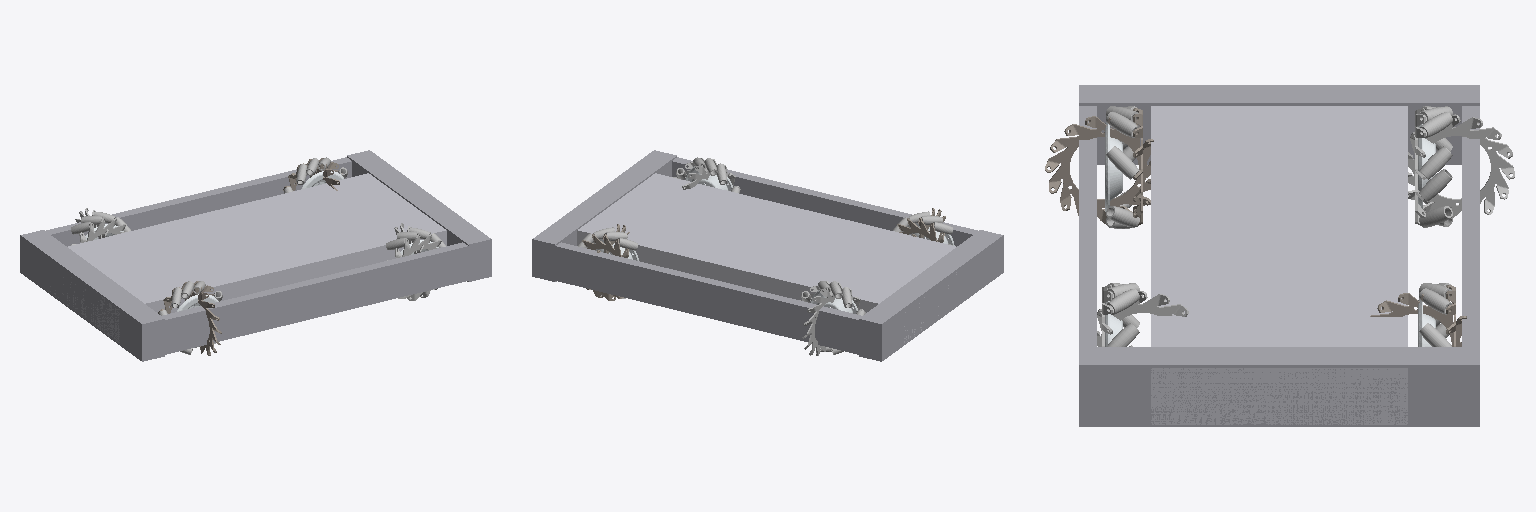
--- Facts derived from the render (not from the file) ---
3 views of the same robot in one strip: view 1: azimuth 30°, elevation 25°; view 2: azimuth 150°, elevation 25°; view 3: azimuth 270°, elevation 25° (orthographic).
Robot: linorobot2_mecanum — 80 links, 79 joints (64 continuous, 15 fixed); root link base_footprint; default pose: all joints at 0.
Links seen in each view (by area): view 1: base_link, right_channel, back_channel, left_channel, front_channel, rear_right_plate2, front_right_plate2; view 2: base_link, left_channel, back_channel, right_channel, front_channel, rear_left_plate1, front_left_plate1; view 3: base_link, front_channel, back_channel, right_channel, left_channel, rear_right_plate2, rear_left_plate1, front_left_plate2, front_right_plate1, rear_right_wheel, rear_left_plate2, rear_right_plate1 (+2 smaller).
Boxes of the visible links, x1,y1,x2,y2 form: base_link: (50, 173, 446, 342); right_channel: (137, 241, 491, 359); back_channel: (20, 230, 164, 361); left_channel: (20, 157, 351, 269); front_channel: (347, 150, 491, 281); rear_right_plate2: (185, 287, 221, 355); front_right_plate2: (395, 234, 441, 300); base_link: (577, 173, 956, 342); left_channel: (532, 242, 885, 359); back_channel: (859, 230, 1003, 361); right_channel: (672, 157, 1003, 270); front_channel: (532, 150, 676, 281); rear_left_plate1: (802, 288, 834, 355); front_left_plate1: (582, 234, 628, 300); base_link: (1151, 106, 1407, 424); front_channel: (1079, 347, 1479, 426); back_channel: (1079, 85, 1479, 164); right_channel: (1079, 106, 1096, 424); left_channel: (1462, 106, 1479, 424); rear_right_plate2: (1045, 116, 1153, 224); rear_left_plate1: (1408, 114, 1514, 222); front_left_plate2: (1370, 293, 1466, 346); front_right_plate1: (1097, 291, 1188, 346); rear_right_wheel: (1105, 122, 1122, 211); rear_left_plate2: (1415, 108, 1425, 225); rear_right_plate1: (1133, 108, 1142, 225).
Size in the robot's own frame: 0.8207 by 0.5825 by 0.1517 metres.
50 mesh visuals loaded from 37 distinct referenced files (14 binary STL); not drawn: 24 (reference not matched to a file when rendering).

robot.urdf — linorobot2_mecanum:
<?xml version="1.0" ?>
<!-- =================================================================================== -->
<!-- |    This document was autogenerated by xacro from mecanum.urdf.xacro             | -->
<!-- |    EDITING THIS FILE BY HAND IS NOT RECOMMENDED                                 | -->
<!-- =================================================================================== -->
<robot name="linorobot2_mecanum">
  <link name="base_footprint"/>
  <link name="base_link">
    <visual>
      <origin rpy="0 0 0" xyz="0 0 0"/>
      <geometry>
        <box size="0.82067 0.3175 0.07772"/>
        <!-- <mesh filename="" scale="0.001 0.001 0.001"/> -->
      </geometry>
      <material name="gray_base">
        <color rgba="0.8 0.8 0.83 1.0"/>
      </material>
    </visual>
    <collision>
      <origin rpy="0 0 0" xyz="0 0 0"/>
      <geometry>
        <box size="0.82067 0.3175 0.07772"/>
      </geometry>
    </collision>
    <inertial>
      <origin rpy="0 0 0" xyz="0 0 0"/>
      <mass value="30"/>
    </inertial>
  </link>
  <gazebo reference="base_link">
    <visual>
      <material>
        <ambient>0.8392 0.6314 0.0 1.0</ambient>
        <diffuse>0.8392 0.6314 0.0 1.0</diffuse>
        <specular>0.99 0.99 0.99 1.0</specular>
        <emissive>0.0 0.0 0.0 0.0</emissive>
      </material>
    </visual>
  </gazebo>
  <joint name="base_to_footprint" type="fixed">
    <parent link="base_footprint"/>
    <child link="base_link"/>
    <origin rpy="0 0 0" xyz="0 0 0.06972"/>
  </joint>
  <link name="front_channel">
    <visual>
      <geometry>
        <box size="0.05398 0.4953 0.08458"/>
        <!-- Box dimensions (x, y, z) -->
      </geometry>
      <material name="gray">
        <color rgba="0.70 0.70 0.73 1.0"/>
        <!-- Blue color -->
      </material>
    </visual>
    <collision>
      <geometry>
        <box size="0.05398 0.4953 0.08458"/>
        <!-- Box dimensions (x, y, z) -->
      </geometry>
    </collision>
    <inertial>
      <mass value="5"/>
    </inertial>
  </link>
  <joint name="base_link_to_front_channel" type="fixed">
    <parent link="base_link"/>
    <child link="front_channel"/>
    <origin rpy="0 0 0" xyz="0.383345 0 0"/>
  </joint>
  <link name="back_channel">
    <visual>
      <geometry>
        <box size="0.05398 0.4953 0.08458"/>
        <!-- Box dimensions (x, y, z) -->
      </geometry>
      <material name="gray">
        <color rgba="0.70 0.70 0.73 1.0"/>
        <!-- Blue color -->
      </material>
    </visual>
    <collision>
      <geometry>
        <box size="0.05398 0.4953 0.08458"/>
        <!-- Box dimensions (x, y, z) -->
      </geometry>
    </collision>
    <inertial>
      <mass value="5"/>
    </inertial>
  </link>
  <joint name="base_link_to_back_channel" type="fixed">
    <parent link="base_link"/>
    <child link="back_channel"/>
    <origin rpy="0 0 0" xyz="-0.383345 0 0"/>
  </joint>
  <link name="left_channel">
    <visual>
      <geometry>
        <box size="0.82067 0.02224 0.07772"/>
      </geometry>
      <material name="gray">
        <color rgba="0.70 0.70 0.73 1.0"/>
      </material>
    </visual>
    <collision>
      <geometry>
        <box size="0.82067 0.02224 0.07772"/>
      </geometry>
    </collision>
    <inertial>
      <mass value="5"/>
    </inertial>
  </link>
  <joint name="base_link_to_left_channel" type="fixed">
    <parent link="base_link"/>
    <child link="left_channel"/>
    <origin rpy="0 0 0" xyz="0 0.23653 0"/>
  </joint>
  <link name="right_channel">
    <visual>
      <geometry>
        <box size="0.82067 0.02224 0.07772"/>
      </geometry>
      <material name="gray">
        <color rgba="0.70 0.70 0.73 1.0"/>
      </material>
    </visual>
    <collision>
      <geometry>
        <box size="0.82067 0.02224 0.07772"/>
      </geometry>
    </collision>
    <inertial>
      <mass value="5"/>
    </inertial>
  </link>
  <joint name="base_link_to_right_channel" type="fixed">
    <parent link="base_link"/>
    <child link="right_channel"/>
    <origin rpy="0 0 0" xyz="0 -0.23653 0"/>
  </joint>
  <link name="front_left_wheel">
    <inertial>
      <origin rpy="0 0 0" xyz="-3.9077136779291E-16 -0.0136205707454137 -1.44489682185117E-14"/>
      <mass value="0.25"/>
    </inertial>
    <visual>
      <origin rpy="0 0 0" xyz="0 0 0"/>
      <geometry>
        <mesh filename="package://linorobot2_description/mecanum_wheel_left/meshes/base_link.STL"/>
      </geometry>
      <material name="">
        <color rgba="0.898039215686275 0.917647058823529 0.929411764705882 1"/>
      </material>
    </visual>
    <collision>
      <origin rpy="0 0 0" xyz="0 0 0"/>
      <geometry>
        <mesh filename="package://linorobot2_description/mecanum_wheel_left/meshes/base_link.STL"/>
      </geometry>
    </collision>
  </link>
  <joint name="base_link_to_front_left_wheel" type="continuous">
    <origin rpy="0 0 0" xyz="0.25857 0.19355 0"/>
    <parent link="base_link"/>
    <child link="front_left_wheel"/>
    <axis xyz="0 1 0"/>
    <dynamics damping="0.1" friction="0.01"/>
  </joint>
  <link name="front_left_plate1">
    <inertial>
      <mass value="0.5"/>
    </inertial>
    <visual>
      <origin rpy="0 0 0" xyz="0 0 0"/>
      <geometry>
        <mesh filename="package://linorobot2_description/mecanum_wheel_left/meshes/plate1.STL"/>
      </geometry>
      <material name="">
        <color rgba="0.650980392156863 0.619607843137255 0.588235294117647 1"/>
      </material>
    </visual>
    <collision>
      <origin rpy="0 0 0" xyz="0 0 0"/>
      <geometry>
        <mesh filename="package://linorobot2_description/mecanum_wheel_left/meshes/plate1.STL"/>
      </geometry>
    </collision>
  </link>
  <joint name="front_left_wheel_to_front_left_plate1" type="fixed">
    <origin rpy="-1.5708 0.03287 0" xyz="0 0.023114 0"/>
    <parent link="front_left_wheel"/>
    <child link="front_left_plate1"/>
    <axis xyz="0 0 0"/>
  </joint>
  <link name="front_left_plate2">
    <inertial>
      <mass value="0.5"/>
    </inertial>
    <visual>
      <origin rpy="0 0 0" xyz="0 0 0"/>
      <geometry>
        <mesh filename="package://linorobot2_description/mecanum_wheel_left/meshes/plate2.STL"/>
      </geometry>
      <material name="">
        <color rgba="0.650980392156863 0.619607843137255 0.588235294117647 1"/>
      </material>
    </visual>
    <collision>
      <origin rpy="0 0 0" xyz="0 0 0"/>
      <geometry>
        <mesh filename="package://linorobot2_description/mecanum_wheel_left/meshes/plate2.STL"/>
      </geometry>
    </collision>
  </link>
  <joint name="front_left_wheel_to_front_left_plate2" type="fixed">
    <origin rpy="-1.5707963267949 0.0335546833724646 -3.14159265358979" xyz="0 -0.023114 0"/>
    <parent link="front_left_wheel"/>
    <child link="front_left_plate2"/>
    <axis xyz="0 0 0"/>
  </joint>
  <link name="front_left_roller1">
    <inertial>
      <origin rpy="0 0 0" xyz="5.96744875736022E-16 -1.24475083018716E-14 -0.0215899999999933"/>
      <mass value="0.025"/>
    </inertial>
    <visual>
      <origin rpy="0 0 0" xyz="0 0 0"/>
      <geometry>
        <mesh filename="package://linorobot2_description/mecanum_wheel_left/meshes/roller1.STL"/>
      </geometry>
      <material name="">
        <color rgba="0.752941176470588 0.752941176470588 0.752941176470588 1"/>
      </material>
    </visual>
    <collision>
      <origin rpy="0 0 0" xyz="0 0 0"/>
      <geometry>
        <mesh filename="package://linorobot2_description/mecanum_wheel_left/meshes/roller1.STL"/>
      </geometry>
    </collision>
  </link>
  <joint name="front_left_wheel_to_front_left_roller1" type="continuous">
    <origin rpy="2.3375 0.48899 -0.038445" xyz="-0.064997 -0.01515 0.019737"/>
    <parent link="front_left_wheel"/>
    <child link="front_left_roller1"/>
    <axis xyz="0 0 1"/>
    <dynamics damping="0.1" friction="0.01"/>
  </joint>
  <link name="front_left_roller2">
    <inertial>
      <origin rpy="0 0 0" xyz="5.82867087928207E-16 -9.95687907123788E-15 -0.0215899999999933"/>
      <mass value="0.025"/>
    </inertial>
    <visual>
      <origin rpy="0 0 0" xyz="0 0 0"/>
      <geometry>
        <mesh filename="package://linorobot2_description/mecanum_wheel_left/meshes/roller2.STL"/>
      </geometry>
      <material name="">
        <color rgba="0.752941176470588 0.752941176470588 0.752941176470588 1"/>
      </material>
    </visual>
    <collision>
      <origin rpy="0 0 0" xyz="0 0 0"/>
      <geometry>
        <mesh filename="package://linorobot2_description/mecanum_wheel_left/meshes/roller2.STL"/>
      </geometry>
    </collision>
  </link>
  <joint name="front_left_wheel_to_front_left_roller2" type="continuous">
    <origin rpy="2.3122 0.90744 -0.055132" xyz="-0.05135 -0.01515 0.044467"/>
    <parent link="front_left_wheel"/>
    <child link="front_left_roller2"/>
    <axis xyz="0 0 1"/>
    <dynamics damping="0.1" friction="0.01"/>
  </joint>
  <link name="front_left_roller3">
    <inertial>
      <origin rpy="0 0 0" xyz="5.82867087928207E-16 -3.41003267290141E-15 -0.0215899999999933"/>
      <mass value="0.025"/>
    </inertial>
    <visual>
      <origin rpy="0 0 0" xyz="0 0 0"/>
      <geometry>
        <mesh filename="package://linorobot2_description/mecanum_wheel_left/meshes/roller3.STL"/>
      </geometry>
      <material name="">
        <color rgba="0.752941176470588 0.752941176470588 0.752941176470588 1"/>
      </material>
    </visual>
    <collision>
      <origin rpy="0 0 0" xyz="0 0 0"/>
      <geometry>
        <mesh filename="package://linorobot2_description/mecanum_wheel_left/meshes/roller3.STL"/>
      </geometry>
    </collision>
  </link>
  <joint name="front_left_wheel_to_front_left_roller3" type="continuous">
    <origin rpy="2.22 1.3248 -0.13976" xyz="-0.028824 -0.01515 0.061508"/>
    <parent link="front_left_wheel"/>
    <child link="front_left_roller3"/>
    <axis xyz="0 0 1"/>
    <dynamics damping="0.1" friction="0.01"/>
  </joint>
  <link name="front_left_roller4">
    <inertial>
      <origin rpy="0 0 0" xyz="5.68989300120393E-16 -3.35365415993216E-15 -0.0215899999999933"/>
      <mass value="0.025"/>
    </inertial>
    <visual>
      <origin rpy="0 0 0" xyz="0 0 0"/>
      <geometry>
        <mesh filename="package://linorobot2_description/mecanum_wheel_left/meshes/roller4.STL"/>
      </geometry>
      <material name="">
        <color rgba="0.752941176470588 0.752941176470588 0.752941176470588 1"/>
      </material>
    </visual>
    <collision>
      <origin rpy="0 0 0" xyz="0 0 0"/>
      <geometry>
        <mesh filename="package://linorobot2_description/mecanum_wheel_left/meshes/roller4.STL"/>
      </geometry>
    </collision>
  </link>
  <joint name="front_left_wheel_to_front_left_roller4" type="continuous">
    <origin rpy="-0.59653 1.3924 -2.9492" xyz="-0.0013143 -0.01515 0.067914"/>
    <parent link="front_left_wheel"/>
    <child link="front_left_roller4"/>
    <axis xyz="0 0 1"/>
    <dynamics damping="0.1" friction="0.01"/>
  </joint>
  <link name="front_left_roller5">
    <inertial>
      <origin rpy="0 0 0" xyz="5.96744875736022E-16 2.4459601011273E-15 -0.0215899999999933"/>
      <mass value="0.025"/>
    </inertial>
    <visual>
      <origin rpy="0 0 0" xyz="0 0 0"/>
      <geometry>
        <mesh filename="package://linorobot2_description/mecanum_wheel_left/meshes/roller5.STL"/>
      </geometry>
      <material name="">
        <color rgba="0.752941176470588 0.752941176470588 0.752941176470588 1"/>
      </material>
    </visual>
    <collision>
      <origin rpy="0 0 0" xyz="0 0 0"/>
      <geometry>
        <mesh filename="package://linorobot2_description/mecanum_wheel_left/meshes/roller5.STL"/>
      </geometry>
    </collision>
  </link>
  <joint name="front_left_wheel_to_front_left_roller5" type="continuous">
    <origin rpy="-0.73578 0.97593 -3.081" xyz="0.026423 -0.01515 0.062578"/>
    <parent link="front_left_wheel"/>
    <child link="front_left_roller5"/>
    <axis xyz="0 0 1"/>
    <dynamics damping="0.1" friction="0.01"/>
  </joint>
  <link name="front_left_roller6">
    <inertial>
      <origin rpy="0 0 0" xyz="5.82867087928207E-16 -7.52392939618041E-15 -0.0215899999999933"/>
      <mass value="0.025"/>
    </inertial>
    <visual>
      <origin rpy="0 0 0" xyz="0 0 0"/>
      <geometry>
        <mesh filename="package://linorobot2_description/mecanum_wheel_left/meshes/roller6.STL"/>
      </geometry>
      <material name="">
        <color rgba="0.752941176470588 0.752941176470588 0.752941176470588 1"/>
      </material>
    </visual>
    <collision>
      <origin rpy="0 0 0" xyz="0 0 0"/>
      <geometry>
        <mesh filename="package://linorobot2_description/mecanum_wheel_left/meshes/roller6.STL"/>
      </geometry>
    </collision>
  </link>
  <joint name="front_left_wheel_to_front_left_roller6" type="continuous">
    <origin rpy="-0.76481 0.55754 -3.1016" xyz="0.049591 -0.01515 0.04642"/>
    <parent link="front_left_wheel"/>
    <child link="front_left_roller6"/>
    <axis xyz="0 0 1"/>
    <dynamics damping="0.1" friction="0.01"/>
  </joint>
  <link name="front_left_roller7">
    <inertial>
      <origin rpy="0 0 0" xyz="5.82867087928207E-16 -3.4109000346394E-15 -0.0215899999999933"/>
      <mass value="0.025"/>
    </inertial>
    <visual>
      <origin rpy="0 0 0" xyz="0 0 0"/>
      <geometry>
        <mesh filename="package://linorobot2_description/mecanum_wheel_left/meshes/roller7.STL"/>
      </geometry>
      <material name="">
        <color rgba="0.752941176470588 0.752941176470588 0.752941176470588 1"/>
      </material>
    </visual>
    <collision>
      <origin rpy="0 0 0" xyz="0 0 0"/>
      <geometry>
        <mesh filename="package://linorobot2_description/mecanum_wheel_left/meshes/roller7.STL"/>
      </geometry>
    </collision>
  </link>
  <joint name="front_left_wheel_to_front_left_roller7" type="continuous">
    <origin rpy="-0.78123 0.13894 -3.1073" xyz="0.064184 -0.01515 0.022237"/>
    <parent link="front_left_wheel"/>
    <child link="front_left_roller7"/>
    <axis xyz="0 0 1"/>
    <dynamics damping="0.1" friction="0.01"/>
  </joint>
  <link name="front_left_roller8">
    <inertial>
      <origin rpy="0 0 0" xyz="5.82867087928207E-16 -1.76421377506841E-15 -0.0215899999999933"/>
      <mass value="0.025"/>
    </inertial>
    <visual>
      <origin rpy="0 0 0" xyz="0 0 0"/>
      <geometry>
        <mesh filename="package://linorobot2_description/mecanum_wheel_left/meshes/roller8.STL"/>
      </geometry>
      <material name="">
        <color rgba="0.752941176470588 0.752941176470588 0.752941176470588 1"/>
      </material>
    </visual>
    <collision>
      <origin rpy="0 0 0" xyz="0 0 0"/>
      <geometry>
        <mesh filename="package://linorobot2_description/mecanum_wheel_left/meshes/roller8.STL"/>
      </geometry>
    </collision>
  </link>
  <joint name="front_left_wheel_to_front_left_roller8" type="continuous">
    <origin rpy="-0.79573 -0.27969 -3.1063" xyz="0.06768 -0.01515 -0.0057919"/>
    <parent link="front_left_wheel"/>
    <child link="front_left_roller8"/>
    <axis xyz="0 0 1"/>
    <dynamics damping="0.1" friction="0.01"/>
  </joint>
  <link name="front_left_roller9">
    <inertial>
      <origin rpy="0 0 0" xyz="5.82867087928207E-16 -5.1013880619788E-15 -0.0215899999999933"/>
      <mass value="0.025"/>
    </inertial>
    <visual>
      <origin rpy="0 0 0" xyz="0 0 0"/>
      <geometry>
        <mesh filename="package://linorobot2_description/mecanum_wheel_left/meshes/roller9.STL"/>
      </geometry>
      <material name="">
        <color rgba="0.752941176470588 0.752941176470588 0.752941176470588 1"/>
      </material>
    </visual>
    <collision>
      <origin rpy="0 0 0" xyz="0 0 0"/>
      <geometry>
        <mesh filename="package://linorobot2_description/mecanum_wheel_left/meshes/roller9.STL"/>
      </geometry>
    </collision>
  </link>
  <joint name="front_left_wheel_to_front_left_roller9" type="continuous">
    <origin rpy="-0.81448 -0.69826 -3.0973" xyz="0.059473 -0.01515 -0.032819"/>
    <parent link="front_left_wheel"/>
    <child link="front_left_roller9"/>
    <axis xyz="0 0 1"/>
    <dynamics damping="0.1" friction="0.01"/>
  </joint>
  <link name="front_left_roller10">
    <inertial>
      <origin rpy="0 0 0" xyz="5.96744875736022E-16 -6.51952450358984E-15 -0.0215899999999933"/>
      <mass value="0.025"/>
    </inertial>
    <visual>
      <origin rpy="0 0 0" xyz="0 0 0"/>
      <geometry>
        <mesh filename="package://linorobot2_description/mecanum_wheel_left/meshes/roller10.STL"/>
      </geometry>
      <material name="">
        <color rgba="0.752941176470588 0.752941176470588 0.752941176470588 1"/>
      </material>
    </visual>
    <collision>
      <origin rpy="0 0 0" xyz="0 0 0"/>
      <geometry>
        <mesh filename="package://linorobot2_description/mecanum_wheel_left/meshes/roller10.STL"/>
      </geometry>
    </collision>
  </link>
  <joint name="front_left_wheel_to_front_left_roller10" type="continuous">
    <origin rpy="-0.85554 -1.1164 -3.0642" xyz="0.040982 -0.01515 -0.054171"/>
    <parent link="front_left_wheel"/>
    <child link="front_left_roller10"/>
    <axis xyz="0 0 1"/>
    <dynamics damping="0.1" friction="0.01"/>
  </joint>
  <link name="front_left_roller11">
    <inertial>
      <origin rpy="0 0 0" xyz="5.68989300120393E-16 -3.40699690681845E-15 -0.0215899999999933"/>
      <mass value="0.025"/>
    </inertial>
    <visual>
      <origin rpy="0 0 0" xyz="0 0 0"/>
      <geometry>
        <mesh filename="package://linorobot2_description/mecanum_wheel_left/meshes/roller11.STL"/>
      </geometry>
      <material name="">
        <color rgba="0.752941176470588 0.752941176470588 0.752941176470588 1"/>
      </material>
    </visual>
    <collision>
      <origin rpy="0 0 0" xyz="0 0 0"/>
      <geometry>
        <mesh filename="package://linorobot2_description/mecanum_wheel_left/meshes/roller11.STL"/>
      </geometry>
    </collision>
  </link>
  <joint name="front_left_wheel_to_front_left_roller11" type="continuous">
    <origin rpy="-1.5658 -1.5225 -2.3612" xyz="0.015406 -0.01515 -0.066157"/>
    <parent link="front_left_wheel"/>
    <child link="front_left_roller11"/>
    <axis xyz="0 0 1"/>
    <dynamics damping="0.1" friction="0.01"/>
  </joint>
  <link name="front_left_roller12">
    <inertial>
      <origin rpy="0 0 0" xyz="5.96744875736022E-16 -9.87751547221194E-15 -0.0215899999999933"/>
      <mass value="0.025"/>
    </inertial>
    <visual>
      <origin rpy="0 0 0" xyz="0 0 0"/>
      <geometry>
        <mesh filename="package://linorobot2_description/mecanum_wheel_left/meshes/roller12.STL"/>
      </geometry>
      <material name="">
        <color rgba="0.752941176470588 0.752941176470588 0.752941176470588 1"/>
      </material>
    </visual>
    <collision>
      <origin rpy="0 0 0" xyz="0 0 0"/>
      <geometry>
        <mesh filename="package://linorobot2_description/mecanum_wheel_left/meshes/roller12.STL"/>
      </geometry>
    </collision>
  </link>
  <joint name="front_left_wheel_to_front_left_roller12" type="continuous">
    <origin rpy="2.4393 -1.1848 -0.090248" xyz="-0.012835 -0.01515 -0.066704"/>
    <parent link="front_left_wheel"/>
    <child link="front_left_roller12"/>
    <axis xyz="0 0 1"/>
    <dynamics damping="0.1" friction="0.01"/>
  </joint>
  <link name="front_left_roller13">
    <inertial>
      <origin rpy="0 0 0" xyz="6.10622663543836E-16 -6.50608039665102E-15 -0.0215899999999933"/>
      <mass value="0.025"/>
    </inertial>
    <visual>
      <origin rpy="0 0 0" xyz="0 0 0"/>
      <geometry>
        <mesh filename="package://linorobot2_description/mecanum_wheel_left/meshes/roller13.STL"/>
      </geometry>
      <material name="">
        <color rgba="0.752941176470588 0.752941176470588 0.752941176470588 1"/>
      </material>
    </visual>
    <collision>
      <origin rpy="0 0 0" xyz="0 0 0"/>
      <geometry>
        <mesh filename="package://linorobot2_description/mecanum_wheel_left/meshes/roller13.STL"/>
      </geometry>
    </collision>
  </link>
  <joint name="front_left_wheel_to_front_left_roller13" type="continuous">
    <origin rpy="2.3883 -0.76678 -0.047134" xyz="-0.038856 -0.01515 -0.055716"/>
    <parent link="front_left_wheel"/>
    <child link="front_left_roller13"/>
    <axis xyz="0 0 1"/>
    <dynamics damping="0.1" friction="0.01"/>
  </joint>
  <link name="front_left_roller14">
    <inertial>
      <origin rpy="0 0 0" xyz="5.96744875736022E-16 -3.365797224264E-15 -0.0215899999999933"/>
      <mass value="0.025"/>
    </inertial>
    <visual>
      <origin rpy="0 0 0" xyz="0 0 0"/>
      <geometry>
        <mesh filename="package://linorobot2_description/mecanum_wheel_left/meshes/roller14.STL"/>
      </geometry>
      <material name="">
        <color rgba="0.752941176470588 0.752941176470588 0.752941176470588 1"/>
      </material>
    </visual>
    <collision>
      <origin rpy="0 0 0" xyz="0 0 0"/>
      <geometry>
        <mesh filename="package://linorobot2_description/mecanum_wheel_left/meshes/roller14.STL"/>
      </geometry>
    </collision>
  </link>
  <joint name="front_left_wheel_to_front_left_roller14" type="continuous">
    <origin rpy="2.3679 -0.34825 -0.036106" xyz="-0.058159 -0.01515 -0.035095"/>
    <parent link="front_left_wheel"/>
    <child link="front_left_roller14"/>
    <axis xyz="0 0 1"/>
    <dynamics damping="0.1" friction="0.01"/>
  </joint>
  <link name="front_left_roller15">
    <inertial>
      <origin rpy="0 0 0" xyz="5.82867087928207E-16 -3.35452152167015E-15 -0.0215899999999933"/>
      <mass value="0.025"/>
    </inertial>
    <visual>
      <origin rpy="0 0 0" xyz="0 0 0"/>
      <geometry>
        <mesh filename="package://linorobot2_description/mecanum_wheel_left/meshes/roller15.STL"/>
      </geometry>
      <material name="">
        <color rgba="0.752941176470588 0.752941176470588 0.752941176470588 1"/>
      </material>
    </visual>
    <collision>
      <origin rpy="0 0 0" xyz="0 0 0"/>
      <geometry>
        <mesh filename="package://linorobot2_description/mecanum_wheel_left/meshes/roller15.STL"/>
      </geometry>
    </collision>
  </link>
  <joint name="front_left_wheel_to_front_left_roller15" type="continuous">
    <origin rpy="2.35322166168045 0.070379538766794 -0.0340216727613588" xyz="-0.0674050504299177 -0.0151497403158722 -0.00840608812639412"/>
    <parent link="front_left_wheel"/>
    <child link="front_left_roller15"/>
    <axis xyz="0 0 1"/>
    <dynamics damping="0.1" friction="0.01"/>
  </joint>
  <link name="front_right_wheel">
    <inertial>
      <origin rpy="0 0 0" xyz="-1.48571881243385E-15 -6.7886631592007E-16 -0.0136209233699844"/>
      <mass value="0.25"/>
    </inertial>
    <visual>
      <origin rpy="0 0 0" xyz="0 0 0"/>
      <geometry>
        <mesh filename="package://linorobot2_description/mecanum_wheel_right/meshes/base_link.STL"/>
      </geometry>
      <material name="">
        <color rgba="0.898039215686275 0.917647058823529 0.929411764705882 1"/>
      </material>
    </visual>
    <collision>
      <origin rpy="0 0 0" xyz="0 0 0"/>
      <geometry>
        <mesh filename="package://linorobot2_description/mecanum_wheel_right/meshes/base_link.STL"/>
      </geometry>
    </collision>
  </link>
  <joint name="base_link_to_front_right_wheel" type="continuous">
    <origin rpy="0 0 0" xyz="0.25857 -0.19355 0"/>
    <parent link="base_link"/>
    <child link="front_right_wheel"/>
    <axis xyz="0 1 0"/>
  </joint>
  <link name="front_right_drum">
    <inertial>
      <origin rpy="0 0 0" xyz="0.0136209233699844 6.56957443528167E-16 -1.48512976903392E-15"/>
      <mass value="0.5"/>
    </inertial>
    <visual>
      <origin rpy="0 0 0" xyz="0 0 0"/>
      <geometry>
        <mesh filename="package://linorobot2_description/mecanum_wheel_right/meshes/drum.STL"/>
      </geometry>
      <material name="">
        <color rgba="0.898039215686275 0.917647058823529 0.929411764705882 1"/>
      </material>
    </visual>
    <collision>
      <origin rpy="0 0 0" xyz="0 0 0"/>
      <geometry>
        <mesh filename="package://linorobot2_description/mecanum_wheel_right/meshes/drum.STL"/>
      </geometry>
    </collision>
  </link>
  <joint name="front_right_wheel_to_drum" type="fixed">
    <origin rpy="1.5707963267949 0 -1.5707963267949" xyz="0 0 0"/>
    <parent link="front_right_wheel"/>
    <child link="front_right_drum"/>
    <axis xyz="0 0 0"/>
  </joint>
  <link name="front_right_plate1">
    <inertial>
      <mass value="0.5"/>
    </inertial>
    <visual>
      <origin rpy="0 0 0" xyz="0 0 0"/>
      <geometry>
        <mesh filename="package://linorobot2_description/mecanum_wheel_right/meshes/plate1.STL"/>
      </geometry>
      <material name="">
        <color rgba="0.752941176470588 0.752941176470588 0.752941176470588 1"/>
      </material>
    </visual>
    <collision>
      <origin rpy="0 0 0" xyz="0 0 0"/>
      <geometry>
        <mesh filename="package://linorobot2_description/mecanum_wheel_right/meshes/plate1.STL"/>
      </geometry>
    </collision>
  </link>
  <joint name="front_right_wheel_to_front_right_plate1" type="fixed">
    <origin rpy="-1.60435101016735 0 1.5707963267949" xyz="0 0.0254 0"/>
    <parent link="front_right_wheel"/>
    <child link="front_right_plate1"/>
    <axis xyz="0 0 0"/>
  </joint>
  <link name="front_right_plate2">
    <inertial>
      <mass value="0.5"/>
    </inertial>
    <visual>
      <origin rpy="0 0 0" xyz="0 0 0"/>
      <geometry>
        <mesh filename="package://linorobot2_description/mecanum_wheel_right/meshes/plate2.STL"/>
      </geometry>
      <material name="">
        <color rgba="0.752941176470588 0.752941176470588 0.752941176470588 1"/>
      </material>
    </visual>
    <collision>
      <origin rpy="0 0 0" xyz="0 0 0"/>
      <geometry>
        <mesh filename="package://linorobot2_description/mecanum_wheel_right/meshes/plate2.STL"/>
      </geometry>
    </collision>
  </link>
  <joint name="front_right_wheel_to_front_right_plate2" type="fixed">
    <origin rpy="1.60435101016734 0 -1.5707963267949" xyz="0 -0.0254 0"/>
    <parent link="front_right_wheel"/>
    <child link="front_right_plate2"/>
    <axis xyz="0 0 0"/>
  </joint>
  <link name="front_right_roller1">
    <inertial>
      <origin rpy="0 0 0" xyz="5.82867087928207E-16 3.51108031537706E-15 -0.0215899999999933"/>
      <mass value="0.025"/>
    </inertial>
    <visual>
      <origin rpy="0 0 0" xyz="0 0 0"/>
      <geometry>
        <mesh filename="package://linorobot2_description/mecanum_wheel_right/meshes/roller1.STL"/>
      </geometry>
      <material name="">
        <color rgba="0.752941176470588 0.752941176470588 0.752941176470588 1"/>
      </material>
    </visual>
    <collision>
      <origin rpy="0 0 0" xyz="0 0 0"/>
      <geometry>
        <mesh filename="package://linorobot2_description/mecanum_wheel_right/meshes/roller1.STL"/>
      </geometry>
    </collision>
  </link>
  <joint name="front_right_wheel_to_front_right_roller1" type="continuous">
    <origin rpy="-2.36778917303694 -0.95454994461673 -1.76416393166909" xyz="0.0513105165568448 -0.0151129693198936 0.0444755356274741"/>
    <parent link="front_right_wheel"/>
    <child link="front_right_roller1"/>
    <axis xyz="0 0 1"/>
    <dynamics damping="0.1" friction="0.01"/>
  </joint>
  <link name="front_right_roller2">
    <inertial>
      <origin rpy="0 0 0" xyz="5.68989300120393E-16 -1.90819582357449E-15 -0.0215899999999933"/>
      <mass value="0.025"/>
    </inertial>
    <visual>
      <origin rpy="0 0 0" xyz="0 0 0"/>
      <geometry>
        <mesh filename="package://linorobot2_description/mecanum_wheel_right/meshes/roller2.STL"/>
      </geometry>
      <material name="">
        <color rgba="0.752941176470588 0.752941176470588 0.752941176470588 1"/>
      </material>
    </visual>
    <collision>
      <origin rpy="0 0 0" xyz="0 0 0"/>
      <geometry>
        <mesh filename="package://linorobot2_description/mecanum_wheel_right/meshes/roller2.STL"/>
      </geometry>
    </collision>
  </link>
  <joint name="front_right_wheel_to_front_right_roller2" type="continuous">
    <origin rpy="-1.77439072812908 -0.775855866169197 -2.22324127737972" xyz="0.0287846592696844 -0.0151129693198959 0.0615002908075162"/>
    <parent link="front_right_wheel"/>
    <child link="front_right_roller2"/>
    <axis xyz="0 0 1"/>
    <dynamics damping="0.1" friction="0.01"/>
  </joint>
  <link name="front_right_roller3">
    <inertial>
      <origin rpy="0 0 0" xyz="5.82867087928207E-16 -4.16333634234434E-17 -0.0215899999999933"/>
      <mass value="0.025"/>
    </inertial>
    <visual>
      <origin rpy="0 0 0" xyz="0 0 0"/>
      <geometry>
        <mesh filename="package://linorobot2_description/mecanum_wheel_right/meshes/roller3.STL"/>
      </geometry>
      <material name="">
        <color rgba="0.752941176470588 0.752941176470588 0.752941176470588 1"/>
      </material>
    </visual>
    <collision>
      <origin rpy="0 0 0" xyz="0 0 0"/>
      <geometry>
        <mesh filename="package://linorobot2_description/mecanum_wheel_right/meshes/roller3.STL"/>
      </geometry>
    </collision>
  </link>
  <joint name="front_right_wheel_to_front_right_roller3" type="continuous">
    <origin rpy="-1.40103696999546 -0.48194994387805 -2.44694050545059" xyz="0.00128167289437567 -0.0151129693198984 0.0678910869943366"/>
    <parent link="front_right_wheel"/>
    <child link="front_right_roller3"/>
    <axis xyz="0 0 1"/>
    <dynamics damping="0.1" friction="0.01"/>
  </joint>
  <link name="front_right_roller4">
    <inertial>
      <origin rpy="0 0 0" xyz="5.89805981832114E-16 -3.20576898360514E-15 -0.0215899999999933"/>
      <mass value="0.025"/>
    </inertial>
    <visual>
      <origin rpy="0 0 0" xyz="0 0 0"/>
      <geometry>
        <mesh filename="package://linorobot2_description/mecanum_wheel_right/meshes/roller4.STL"/>
      </geometry>
      <material name="">
        <color rgba="0.752941176470588 0.752941176470588 0.752941176470588 1"/>
      </material>
    </visual>
    <collision>
      <origin rpy="0 0 0" xyz="0 0 0"/>
      <geometry>
        <mesh filename="package://linorobot2_description/mecanum_wheel_right/meshes/roller4.STL"/>
      </geometry>
    </collision>
  </link>
  <joint name="front_right_wheel_to_front_right_roller4" type="continuous">
    <origin rpy="-1.13469826196558 -0.147073422491862 -2.53094960861872" xyz="-0.0264429263680024 -0.0151129693199014 0.062542897468674"/>
    <parent link="front_right_wheel"/>
    <child link="front_right_roller4"/>
    <axis xyz="0 0 1"/>
    <dynamics damping="0.1" friction="0.01"/>
  </joint>
  <link name="front_right_roller5">
    <inertial>
      <origin rpy="0 0 0" xyz="5.82867087928207E-16 -7.39686090156511E-15 -0.0215899999999933"/>
      <mass value="0.025"/>
    </inertial>
    <visual>
      <origin rpy="0 0 0" xyz="0 0 0"/>
      <geometry>
        <mesh filename="package://linorobot2_description/mecanum_wheel_right/meshes/roller5.STL"/>
      </geometry>
      <material name="">
        <color rgba="0.752941176470588 0.752941176470588 0.752941176470588 1"/>
      </material>
    </visual>
    <collision>
      <origin rpy="0 0 0" xyz="0 0 0"/>
      <geometry>
        <mesh filename="package://linorobot2_description/mecanum_wheel_right/meshes/roller5.STL"/>
      </geometry>
    </collision>
  </link>
  <joint name="front_right_wheel_to_front_right_roller5" type="continuous">
    <origin rpy="-0.894575475762315 0.197031441859666 -2.52483292758441" xyz="-0.0495953034349089 -0.0151129693199047 0.0463804727862918"/>
    <parent link="front_right_wheel"/>
    <child link="front_right_roller5"/>
    <axis xyz="0 0 1"/>
    <dynamics damping="0.1" friction="0.01"/>
  </joint>
  <link name="front_right_roller6">
    <inertial>
      <origin rpy="0 0 0" xyz="5.89805981832114E-16 -9.20097331658098E-15 -0.0215899999999933"/>
      <mass value="0.025"/>
    </inertial>
    <visual>
      <origin rpy="0 0 0" xyz="0 0 0"/>
      <geometry>
        <mesh filename="package://linorobot2_description/mecanum_wheel_right/meshes/roller6.STL"/>
      </geometry>
      <material name="">
        <color rgba="0.752941176470588 0.752941176470588 0.752941176470588 1"/>
      </material>
    </visual>
    <collision>
      <origin rpy="0 0 0" xyz="0 0 0"/>
      <geometry>
        <mesh filename="package://linorobot2_description/mecanum_wheel_right/meshes/roller6.STL"/>
      </geometry>
    </collision>
  </link>
  <joint name="front_right_wheel_to_front_right_roller6" type="continuous">
    <origin rpy="-0.618670381864381 0.528470873009444 -2.42501713902796" xyz="-0.0641722019787319 -0.0151129693199074 0.0221984430057918"/>
    <parent link="front_right_wheel"/>
    <child link="front_right_roller6"/>
    <axis xyz="0 0 1"/>
    <dynamics damping="0.1" friction="0.01"/>
  </joint>
  <link name="front_right_roller7">
    <inertial>
      <origin rpy="0 0 0" xyz="5.89805981832114E-16 -8.25034485174569E-15 -0.0215899999999933"/>
      <mass value="0.025"/>
    </inertial>
    <visual>
      <origin rpy="0 0 0" xyz="0 0 0"/>
      <geometry>
        <mesh filename="package://linorobot2_description/mecanum_wheel_right/meshes/roller7.STL"/>
      </geometry>
      <material name="">
        <color rgba="0.752941176470588 0.752941176470588 0.752941176470588 1"/>
      </material>
    </visual>
    <collision>
      <origin rpy="0 0 0" xyz="0 0 0"/>
      <geometry>
        <mesh filename="package://linorobot2_description/mecanum_wheel_right/meshes/roller7.STL"/>
      </geometry>
    </collision>
  </link>
  <joint name="front_right_wheel_to_front_right_roller7" type="continuous">
    <origin rpy="-0.22003525595071 0.81173834281584 -2.17291203984087" xyz="-0.0676531438142786 -0.0151129693199092 -0.0058218992369328"/>
    <parent link="front_right_wheel"/>
    <child link="front_right_roller7"/>
    <axis xyz="0 0 1"/>
    <dynamics damping="0.1" friction="0.01"/>
  </joint>
  <link name="front_right_roller8">
    <inertial>
      <origin rpy="0 0 0" xyz="5.759281940243E-16 2.22044604925031E-15 -0.0215899999999933"/>
      <mass value="0.025"/>
    </inertial>
    <visual>
      <origin rpy="0 0 0" xyz="0 0 0"/>
      <geometry>
        <mesh filename="package://linorobot2_description/mecanum_wheel_right/meshes/roller8.STL"/>
      </geometry>
      <material name="">
        <color rgba="0.752941176470588 0.752941176470588 0.752941176470588 1"/>
      </material>
    </visual>
    <collision>
      <origin rpy="0 0 0" xyz="0 0 0"/>
      <geometry>
        <mesh filename="package://linorobot2_description/mecanum_wheel_right/meshes/roller8.STL"/>
      </geometry>
    </collision>
  </link>
  <joint name="front_right_wheel_to_front_right_roller8" type="continuous">
    <origin rpy="0.408043134594723 0.963708851734786 -1.67797755478808" xyz="-0.0594362424748194 -0.0151129693199101 -0.0328355822112983"/>
    <parent link="front_right_wheel"/>
    <child link="front_right_roller8"/>
    <axis xyz="0 0 1"/>
    <dynamics damping="0.1" friction="0.01"/>
  </joint>
  <link name="front_right_roller9">
    <inertial>
      <origin rpy="0 0 0" xyz="5.759281940243E-16 -2.60208521396521E-15 -0.0215899999999933"/>
      <mass value="0.025"/>
    </inertial>
    <visual>
      <origin rpy="0 0 0" xyz="0 0 0"/>
      <geometry>
        <mesh filename="package://linorobot2_description/mecanum_wheel_right/meshes/roller9.STL"/>
      </geometry>
      <material name="">
        <color rgba="0.752941176470588 0.752941176470588 0.752941176470588 1"/>
      </material>
    </visual>
    <collision>
      <origin rpy="0 0 0" xyz="0 0 0"/>
      <geometry>
        <mesh filename="package://linorobot2_description/mecanum_wheel_right/meshes/roller9.STL"/>
      </geometry>
    </collision>
  </link>
  <joint name="front_right_wheel_to_front_right_roller9" type="continuous">
    <origin rpy="1.1026415771303 0.886919106568413 -1.11464531078552" xyz="-0.0409422748501527 -0.015112969319909 -0.0541716947194296"/>
    <parent link="front_right_wheel"/>
    <child link="front_right_roller9"/>
    <axis xyz="0 0 1"/>
    <dynamics damping="0.1" friction="0.01"/>
  </joint>
  <link name="front_right_roller10">
    <inertial>
      <origin rpy="0 0 0" xyz="5.89805981832114E-16 -3.42087469462626E-15 -0.0215899999999933"/>
      <mass value="0.025"/>
    </inertial>
    <visual>
      <origin rpy="0 0 0" xyz="0 0 0"/>
      <geometry>
        <mesh filename="package://linorobot2_description/mecanum_wheel_right/meshes/roller10.STL"/>
      </geometry>
      <material name="">
        <color rgba="0.752941176470588 0.752941176470588 0.752941176470588 1"/>
      </material>
    </visual>
    <collision>
      <origin rpy="0 0 0" xyz="0 0 0"/>
      <geometry>
        <mesh filename="package://linorobot2_description/mecanum_wheel_right/meshes/roller10.STL"/>
      </geometry>
    </collision>
  </link>
  <joint name="front_right_wheel_to_front_right_roller10" type="continuous">
    <origin rpy="1.57421323203544 0.637163580624169 -0.783361608443036" xyz="-0.0153690159550034 -0.0151129693199065 -0.0661410290761748"/>
    <parent link="front_right_wheel"/>
    <child link="front_right_roller10"/>
    <axis xyz="0 0 1"/>
    <dynamics damping="0.1" friction="0.01"/>
  </joint>
  <link name="front_right_roller11">
    <inertial>
      <origin rpy="0 0 0" xyz="5.89805981832114E-16 -5.03069808033274E-15 -0.0215899999999933"/>
      <mass value="0.025"/>
    </inertial>
    <visual>
      <origin rpy="0 0 0" xyz="0 0 0"/>
      <geometry>
        <mesh filename="package://linorobot2_description/mecanum_wheel_right/meshes/roller11.STL"/>
      </geometry>
      <material name="">
        <color rgba="0.752941176470588 0.752941176470588 0.752941176470588 1"/>
      </material>
    </visual>
    <collision>
      <origin rpy="0 0 0" xyz="0 0 0"/>
      <geometry>
        <mesh filename="package://linorobot2_description/mecanum_wheel_right/meshes/roller11.STL"/>
      </geometry>
    </collision>
  </link>
  <joint name="front_right_wheel_to_front_right_roller11" type="continuous">
    <origin rpy="1.88109068595424 0.317129294370825 -0.639722033593165" xyz="0.0128616854218928 -0.0151129693199038 -0.0666739786332639"/>
    <parent link="front_right_wheel"/>
    <child link="front_right_roller11"/>
    <axis xyz="0 0 1"/>
    <dynamics damping="0.1" friction="0.01"/>
  </joint>
  <link name="front_right_roller12">
    <inertial>
      <origin rpy="0 0 0" xyz="5.759281940243E-16 -3.44169137633799E-15 -0.0215899999999933"/>
      <mass value="0.025"/>
    </inertial>
    <visual>
      <origin rpy="0 0 0" xyz="0 0 0"/>
      <geometry>
        <mesh filename="package://linorobot2_description/mecanum_wheel_right/meshes/roller12.STL"/>
      </geometry>
      <material name="">
        <color rgba="0.752941176470588 0.752941176470588 0.752941176470588 1"/>
      </material>
    </visual>
    <collision>
      <origin rpy="0 0 0" xyz="0 0 0"/>
      <geometry>
        <mesh filename="package://linorobot2_description/mecanum_wheel_right/meshes/roller12.STL"/>
      </geometry>
    </collision>
  </link>
  <joint name="front_right_wheel_to_front_right_roller12" type="continuous">
    <origin rpy="2.12643201705665 -0.025160050703084 -0.60332516970669" xyz="0.0388684845445997 -0.0151129693199006 -0.0556783915705813"/>
    <parent link="front_right_wheel"/>
    <child link="front_right_roller12"/>
    <axis xyz="0 0 1"/>
    <dynamics damping="0.1" friction="0.01"/>
  </joint>
  <link name="front_right_roller13">
    <inertial>
      <origin rpy="0 0 0" xyz="5.89805981832114E-16 -3.36536354339501E-15 -0.0215899999999933"/>
      <mass value="0.025"/>
    </inertial>
    <visual>
      <origin rpy="0 0 0" xyz="0 0 0"/>
      <geometry>
        <mesh filename="package://linorobot2_description/mecanum_wheel_right/meshes/roller13.STL"/>
      </geometry>
      <material name="">
        <color rgba="0.752941176470588 0.752941176470588 0.752941176470588 1"/>
      </material>
    </visual>
    <collision>
      <origin rpy="0 0 0" xyz="0 0 0"/>
      <geometry>
        <mesh filename="package://linorobot2_description/mecanum_wheel_right/meshes/roller13.STL"/>
      </geometry>
    </collision>
  </link>
  <joint name="front_right_wheel_to_front_right_roller13" type="continuous">
    <origin rpy="2.37615666037905 -0.365916365141497 -0.652805521545524" xyz="0.0581545695804492 -0.0151129693198971 -0.0350555047830372"/>
    <parent link="front_right_wheel"/>
    <child link="front_right_roller13"/>
    <axis xyz="0 0 1"/>
    <dynamics damping="0.1" friction="0.01"/>
  </joint>
  <link name="front_right_roller14">
    <inertial>
      <origin rpy="0 0 0" xyz="5.82867087928207E-16 -2.38697950294409E-15 -0.0215899999999933"/>
      <mass value="0.025"/>
    </inertial>
    <visual>
      <origin rpy="0 0 0" xyz="0 0 0"/>
      <geometry>
        <mesh filename="package://linorobot2_description/mecanum_wheel_right/meshes/roller14.STL"/>
      </geometry>
      <material name="">
        <color rgba="0.752941176470588 0.752941176470588 0.752941176470588 1"/>
      </material>
    </visual>
    <collision>
      <origin rpy="0 0 0" xyz="0 0 0"/>
      <geometry>
        <mesh filename="package://linorobot2_description/mecanum_wheel_right/meshes/roller14.STL"/>
      </geometry>
    </collision>
  </link>
  <joint name="front_right_wheel_to_front_right_roller14" type="continuous">
    <origin rpy="2.69941973817462 -0.67973266586857 -0.817294146739146" xyz="0.0673852012181607 -0.0151129693198943 -0.00837120274924246"/>
    <parent link="front_right_wheel"/>
    <child link="front_right_roller14"/>
    <axis xyz="0 0 1"/>
    <dynamics damping="0.1" friction="0.01"/>
  </joint>
  <link name="front_right_roller15">
    <inertial>
      <origin rpy="0 0 0" xyz="5.759281940243E-16 -6.50868248186498E-15 -0.0215899999999933"/>
      <mass value="0.025"/>
    </inertial>
    <visual>
      <origin rpy="0 0 0" xyz="0 0 0"/>
      <geometry>
        <mesh filename="package://linorobot2_description/mecanum_wheel_right/meshes/roller15.STL"/>
      </geometry>
      <material name="">
        <color rgba="0.752941176470588 0.752941176470588 0.752941176470588 1"/>
      </material>
    </visual>
    <collision>
      <origin rpy="0 0 0" xyz="0 0 0"/>
      <geometry>
        <mesh filename="package://linorobot2_description/mecanum_wheel_right/meshes/roller15.STL"/>
      </geometry>
    </collision>
  </link>
  <joint name="front_right_wheel_to_front_right_roller15" type="continuous">
    <origin rpy="-3.077965161563 -0.911914057233449 -1.18487158274901" xyz="0.0649643193899178 -0.0151129693198934 0.0197605562898849"/>
    <parent link="front_right_wheel"/>
    <child link="front_right_roller15"/>
    <axis xyz="0 0 1"/>
    <dynamics damping="0.1" friction="0.01"/>
  </joint>
  <!-- Back wheels mechanum style swapped (left mecanum wheel goes on right side of robot, and vice versa) -->
  <link name="rear_left_wheel">
    <inertial>
      <origin rpy="0 0 0" xyz="-1.48571881243385E-15 -6.7886631592007E-16 -0.0136209233699844"/>
      <mass value="0.25"/>
    </inertial>
    <visual>
      <origin rpy="0 0 0" xyz="0 0 0"/>
      <geometry>
        <mesh filename="package://linorobot2_description/mecanum_wheel_right/meshes/base_link.STL"/>
      </geometry>
      <material name="">
        <color rgba="0.898039215686275 0.917647058823529 0.929411764705882 1"/>
      </material>
    </visual>
    <collision>
      <origin rpy="0 0 0" xyz="0 0 0"/>
      <geometry>
        <mesh filename="package://linorobot2_description/mecanum_wheel_right/meshes/base_link.STL"/>
      </geometry>
    </collision>
  </link>
  <joint name="base_link_to_rear_left_wheel" type="continuous">
    <origin rpy="0 0 0" xyz="-0.25857 0.19355 0"/>
    <parent link="base_link"/>
    <child link="rear_left_wheel"/>
    <axis xyz="0 1 0"/>
  </joint>
  <link name="rear_left_drum">
    <inertial>
      <origin rpy="0 0 0" xyz="0.0136209233699844 6.56957443528167E-16 -1.48512976903392E-15"/>
      <mass value="0.5"/>
    </inertial>
    <visual>
      <origin rpy="0 0 0" xyz="0 0 0"/>
      <geometry>
        <mesh filename="package://linorobot2_description/mecanum_wheel_right/meshes/drum.STL"/>
      </geometry>
      <material name="">
        <color rgba="0.898039215686275 0.917647058823529 0.929411764705882 1"/>
      </material>
    </visual>
    <collision>
      <origin rpy="0 0 0" xyz="0 0 0"/>
      <geometry>
        <mesh filename="package://linorobot2_description/mecanum_wheel_right/meshes/drum.STL"/>
      </geometry>
    </collision>
  </link>
  <joint name="rear_left_wheel_to_drum" type="fixed">
    <origin rpy="1.5707963267949 0 -1.5707963267949" xyz="0 0 0"/>
    <parent link="rear_left_wheel"/>
    <child link="rear_left_drum"/>
    <axis xyz="0 0 0"/>
  </joint>
  <link name="rear_left_plate1">
    <inertial>
      <mass value="0.5"/>
    </inertial>
    <visual>
      <origin rpy="0 0 0" xyz="0 0 0"/>
      <geometry>
        <mesh filename="package://linorobot2_description/mecanum_wheel_right/meshes/plate1.STL"/>
      </geometry>
      <material name="">
        <color rgba="0.752941176470588 0.752941176470588 0.752941176470588 1"/>
      </material>
    </visual>
    <collision>
      <origin rpy="0 0 0" xyz="0 0 0"/>
      <geometry>
        <mesh filename="package://linorobot2_description/mecanum_wheel_right/meshes/plate1.STL"/>
      </geometry>
    </collision>
  </link>
  <joint name="rear_left_wheel_to_rear_left_plate1" type="fixed">
    <origin rpy="-1.60435101016735 0 1.5707963267949" xyz="0 0.0254 0"/>
    <parent link="rear_left_wheel"/>
    <child link="rear_left_plate1"/>
    <axis xyz="0 0 0"/>
  </joint>
  <link name="rear_left_plate2">
    <inertial>
      <mass value="0.5"/>
    </inertial>
    <visual>
      <origin rpy="0 0 0" xyz="0 0 0"/>
      <geometry>
        <mesh filename="package://linorobot2_description/mecanum_wheel_right/meshes/plate2.STL"/>
      </geometry>
      <material name="">
        <color rgba="0.752941176470588 0.752941176470588 0.752941176470588 1"/>
      </material>
    </visual>
    <collision>
      <origin rpy="0 0 0" xyz="0 0 0"/>
      <geometry>
        <mesh filename="package://linorobot2_description/mecanum_wheel_right/meshes/plate2.STL"/>
      </geometry>
    </collision>
  </link>
  <joint name="rear_left_wheel_to_rear_left_plate2" type="fixed">
    <origin rpy="1.60435101016734 0 -1.5707963267949" xyz="0 -0.0254 0"/>
    <parent link="rear_left_wheel"/>
    <child link="rear_left_plate2"/>
    <axis xyz="0 0 0"/>
  </joint>
  <link name="rear_left_roller1">
    <inertial>
      <origin rpy="0 0 0" xyz="5.82867087928207E-16 3.51108031537706E-15 -0.0215899999999933"/>
      <mass value="0.025"/>
    </inertial>
    <visual>
      <origin rpy="0 0 0" xyz="0 0 0"/>
      <geometry>
        <mesh filename="package://linorobot2_description/mecanum_wheel_right/meshes/roller1.STL"/>
      </geometry>
      <material name="">
        <color rgba="0.752941176470588 0.752941176470588 0.752941176470588 1"/>
      </material>
    </visual>
    <collision>
      <origin rpy="0 0 0" xyz="0 0 0"/>
      <geometry>
        <mesh filename="package://linorobot2_description/mecanum_wheel_right/meshes/roller1.STL"/>
      </geometry>
    </collision>
  </link>
  <joint name="rear_left_wheel_to_rear_left_roller1" type="continuous">
    <origin rpy="-2.36778917303694 -0.95454994461673 -1.76416393166909" xyz="0.0513105165568448 -0.0151129693198936 0.0444755356274741"/>
    <parent link="rear_left_wheel"/>
    <child link="rear_left_roller1"/>
    <axis xyz="0 0 1"/>
    <dynamics damping="0.1" friction="0.01"/>
  </joint>
  <link name="rear_left_roller2">
    <inertial>
      <origin rpy="0 0 0" xyz="5.68989300120393E-16 -1.90819582357449E-15 -0.0215899999999933"/>
      <mass value="0.025"/>
    </inertial>
    <visual>
      <origin rpy="0 0 0" xyz="0 0 0"/>
      <geometry>
        <mesh filename="package://linorobot2_description/mecanum_wheel_right/meshes/roller2.STL"/>
      </geometry>
      <material name="">
        <color rgba="0.752941176470588 0.752941176470588 0.752941176470588 1"/>
      </material>
    </visual>
    <collision>
      <origin rpy="0 0 0" xyz="0 0 0"/>
      <geometry>
        <mesh filename="package://linorobot2_description/mecanum_wheel_right/meshes/roller2.STL"/>
      </geometry>
    </collision>
  </link>
  <joint name="rear_left_wheel_to_rear_left_roller2" type="continuous">
    <origin rpy="-1.77439072812908 -0.775855866169197 -2.22324127737972" xyz="0.0287846592696844 -0.0151129693198959 0.0615002908075162"/>
    <parent link="rear_left_wheel"/>
    <child link="rear_left_roller2"/>
    <axis xyz="0 0 1"/>
    <dynamics damping="0.1" friction="0.01"/>
  </joint>
  <link name="rear_left_roller3">
    <inertial>
      <origin rpy="0 0 0" xyz="5.82867087928207E-16 -4.16333634234434E-17 -0.0215899999999933"/>
      <mass value="0.025"/>
    </inertial>
    <visual>
      <origin rpy="0 0 0" xyz="0 0 0"/>
      <geometry>
        <mesh filename="package://linorobot2_description/mecanum_wheel_right/meshes/roller3.STL"/>
      </geometry>
      <material name="">
        <color rgba="0.752941176470588 0.752941176470588 0.752941176470588 1"/>
      </material>
    </visual>
    <collision>
      <origin rpy="0 0 0" xyz="0 0 0"/>
      <geometry>
        <mesh filename="package://linorobot2_description/mecanum_wheel_right/meshes/roller3.STL"/>
      </geometry>
    </collision>
  </link>
  <joint name="rear_left_wheel_to_rear_left_roller3" type="continuous">
    <origin rpy="-1.40103696999546 -0.48194994387805 -2.44694050545059" xyz="0.00128167289437567 -0.0151129693198984 0.0678910869943366"/>
    <parent link="rear_left_wheel"/>
    <child link="rear_left_roller3"/>
    <axis xyz="0 0 1"/>
    <dynamics damping="0.1" friction="0.01"/>
  </joint>
  <link name="rear_left_roller4">
    <inertial>
      <origin rpy="0 0 0" xyz="5.89805981832114E-16 -3.20576898360514E-15 -0.0215899999999933"/>
      <mass value="0.025"/>
    </inertial>
    <visual>
      <origin rpy="0 0 0" xyz="0 0 0"/>
      <geometry>
        <mesh filename="package://linorobot2_description/mecanum_wheel_right/meshes/roller4.STL"/>
      </geometry>
      <material name="">
        <color rgba="0.752941176470588 0.752941176470588 0.752941176470588 1"/>
      </material>
    </visual>
    <collision>
      <origin rpy="0 0 0" xyz="0 0 0"/>
      <geometry>
        <mesh filename="package://linorobot2_description/mecanum_wheel_right/meshes/roller4.STL"/>
      </geometry>
    </collision>
  </link>
  <joint name="rear_left_wheel_to_rear_left_roller4" type="continuous">
    <origin rpy="-1.13469826196558 -0.147073422491862 -2.53094960861872" xyz="-0.0264429263680024 -0.0151129693199014 0.062542897468674"/>
    <parent link="rear_left_wheel"/>
    <child link="rear_left_roller4"/>
    <axis xyz="0 0 1"/>
    <dynamics damping="0.1" friction="0.01"/>
  </joint>
  <link name="rear_left_roller5">
    <inertial>
      <origin rpy="0 0 0" xyz="5.82867087928207E-16 -7.39686090156511E-15 -0.0215899999999933"/>
      <mass value="0.025"/>
    </inertial>
    <visual>
      <origin rpy="0 0 0" xyz="0 0 0"/>
      <geometry>
        <mesh filename="package://linorobot2_description/mecanum_wheel_right/meshes/roller5.STL"/>
      </geometry>
      <material name="">
        <color rgba="0.752941176470588 0.752941176470588 0.752941176470588 1"/>
      </material>
    </visual>
    <collision>
      <origin rpy="0 0 0" xyz="0 0 0"/>
      <geometry>
        <mesh filename="package://linorobot2_description/mecanum_wheel_right/meshes/roller5.STL"/>
      </geometry>
    </collision>
  </link>
  <joint name="rear_left_wheel_to_rear_left_roller5" type="continuous">
    <origin rpy="-0.894575475762315 0.197031441859666 -2.52483292758441" xyz="-0.0495953034349089 -0.0151129693199047 0.0463804727862918"/>
    <parent link="rear_left_wheel"/>
    <child link="rear_left_roller5"/>
    <axis xyz="0 0 1"/>
    <dynamics damping="0.1" friction="0.01"/>
  </joint>
  <link name="rear_left_roller6">
    <inertial>
      <origin rpy="0 0 0" xyz="5.89805981832114E-16 -9.20097331658098E-15 -0.0215899999999933"/>
      <mass value="0.025"/>
    </inertial>
    <visual>
      <origin rpy="0 0 0" xyz="0 0 0"/>
      <geometry>
        <mesh filename="package://linorobot2_description/mecanum_wheel_right/meshes/roller6.STL"/>
      </geometry>
      <material name="">
        <color rgba="0.752941176470588 0.752941176470588 0.752941176470588 1"/>
      </material>
    </visual>
    <collision>
      <origin rpy="0 0 0" xyz="0 0 0"/>
      <geometry>
        <mesh filename="package://linorobot2_description/mecanum_wheel_right/meshes/roller6.STL"/>
      </geometry>
    </collision>
  </link>
  <joint name="rear_left_wheel_to_rear_left_roller6" type="continuous">
    <origin rpy="-0.618670381864381 0.528470873009444 -2.42501713902796" xyz="-0.0641722019787319 -0.0151129693199074 0.0221984430057918"/>
    <parent link="rear_left_wheel"/>
    <child link="rear_left_roller6"/>
    <axis xyz="0 0 1"/>
    <dynamics damping="0.1" friction="0.01"/>
  </joint>
  <link name="rear_left_roller7">
    <inertial>
      <origin rpy="0 0 0" xyz="5.89805981832114E-16 -8.25034485174569E-15 -0.0215899999999933"/>
      <mass value="0.025"/>
    </inertial>
    <visual>
      <origin rpy="0 0 0" xyz="0 0 0"/>
      <geometry>
        <mesh filename="package://linorobot2_description/mecanum_wheel_right/meshes/roller7.STL"/>
      </geometry>
      <material name="">
        <color rgba="0.752941176470588 0.752941176470588 0.752941176470588 1"/>
      </material>
    </visual>
    <collision>
      <origin rpy="0 0 0" xyz="0 0 0"/>
      <geometry>
        <mesh filename="package://linorobot2_description/mecanum_wheel_right/meshes/roller7.STL"/>
      </geometry>
    </collision>
  </link>
  <joint name="rear_left_wheel_to_rear_left_roller7" type="continuous">
    <origin rpy="-0.22003525595071 0.81173834281584 -2.17291203984087" xyz="-0.0676531438142786 -0.0151129693199092 -0.0058218992369328"/>
    <parent link="rear_left_wheel"/>
    <child link="rear_left_roller7"/>
    <axis xyz="0 0 1"/>
    <dynamics damping="0.1" friction="0.01"/>
  </joint>
  <link name="rear_left_roller8">
    <inertial>
      <origin rpy="0 0 0" xyz="5.759281940243E-16 2.22044604925031E-15 -0.0215899999999933"/>
      <mass value="0.025"/>
    </inertial>
    <visual>
      <origin rpy="0 0 0" xyz="0 0 0"/>
      <geometry>
        <mesh filename="package://linorobot2_description/mecanum_wheel_right/meshes/roller8.STL"/>
      </geometry>
      <material name="">
        <color rgba="0.752941176470588 0.752941176470588 0.752941176470588 1"/>
      </material>
    </visual>
    <collision>
      <origin rpy="0 0 0" xyz="0 0 0"/>
      <geometry>
        <mesh filename="package://linorobot2_description/mecanum_wheel_right/meshes/roller8.STL"/>
      </geometry>
    </collision>
  </link>
  <joint name="rear_left_wheel_to_rear_left_roller8" type="continuous">
    <origin rpy="0.408043134594723 0.963708851734786 -1.67797755478808" xyz="-0.0594362424748194 -0.0151129693199101 -0.0328355822112983"/>
    <parent link="rear_left_wheel"/>
    <child link="rear_left_roller8"/>
    <axis xyz="0 0 1"/>
    <dynamics damping="0.1" friction="0.01"/>
  </joint>
  <link name="rear_left_roller9">
    <inertial>
      <origin rpy="0 0 0" xyz="5.759281940243E-16 -2.60208521396521E-15 -0.0215899999999933"/>
      <mass value="0.025"/>
    </inertial>
    <visual>
      <origin rpy="0 0 0" xyz="0 0 0"/>
      <geometry>
        <mesh filename="package://linorobot2_description/mecanum_wheel_right/meshes/roller9.STL"/>
      </geometry>
      <material name="">
        <color rgba="0.752941176470588 0.752941176470588 0.752941176470588 1"/>
      </material>
    </visual>
    <collision>
      <origin rpy="0 0 0" xyz="0 0 0"/>
      <geometry>
        <mesh filename="package://linorobot2_description/mecanum_wheel_right/meshes/roller9.STL"/>
      </geometry>
    </collision>
  </link>
  <joint name="rear_left_wheel_to_rear_left_roller9" type="continuous">
    <origin rpy="1.1026415771303 0.886919106568413 -1.11464531078552" xyz="-0.0409422748501527 -0.015112969319909 -0.0541716947194296"/>
    <parent link="rear_left_wheel"/>
    <child link="rear_left_roller9"/>
    <axis xyz="0 0 1"/>
    <dynamics damping="0.1" friction="0.01"/>
  </joint>
  <link name="rear_left_roller10">
    <inertial>
      <origin rpy="0 0 0" xyz="5.89805981832114E-16 -3.42087469462626E-15 -0.0215899999999933"/>
      <mass value="0.025"/>
    </inertial>
    <visual>
      <origin rpy="0 0 0" xyz="0 0 0"/>
      <geometry>
        <mesh filename="package://linorobot2_description/mecanum_wheel_right/meshes/roller10.STL"/>
      </geometry>
      <material name="">
        <color rgba="0.752941176470588 0.752941176470588 0.752941176470588 1"/>
      </material>
    </visual>
    <collision>
      <origin rpy="0 0 0" xyz="0 0 0"/>
      <geometry>
        <mesh filename="package://linorobot2_description/mecanum_wheel_right/meshes/roller10.STL"/>
      </geometry>
    </collision>
  </link>
  <joint name="rear_left_wheel_to_rear_left_roller10" type="continuous">
    <origin rpy="1.57421323203544 0.637163580624169 -0.783361608443036" xyz="-0.0153690159550034 -0.0151129693199065 -0.0661410290761748"/>
    <parent link="rear_left_wheel"/>
    <child link="rear_left_roller10"/>
    <axis xyz="0 0 1"/>
    <dynamics damping="0.1" friction="0.01"/>
  </joint>
  <link name="rear_left_roller11">
    <inertial>
      <origin rpy="0 0 0" xyz="5.89805981832114E-16 -5.03069808033274E-15 -0.0215899999999933"/>
      <mass value="0.025"/>
    </inertial>
    <visual>
      <origin rpy="0 0 0" xyz="0 0 0"/>
      <geometry>
        <mesh filename="package://linorobot2_description/mecanum_wheel_right/meshes/roller11.STL"/>
      </geometry>
      <material name="">
        <color rgba="0.752941176470588 0.752941176470588 0.752941176470588 1"/>
      </material>
    </visual>
    <collision>
      <origin rpy="0 0 0" xyz="0 0 0"/>
      <geometry>
        <mesh filename="package://linorobot2_description/mecanum_wheel_right/meshes/roller11.STL"/>
      </geometry>
    </collision>
  </link>
  <joint name="rear_left_wheel_to_rear_left_roller11" type="continuous">
    <origin rpy="1.88109068595424 0.317129294370825 -0.639722033593165" xyz="0.0128616854218928 -0.0151129693199038 -0.0666739786332639"/>
    <parent link="rear_left_wheel"/>
    <child link="rear_left_roller11"/>
    <axis xyz="0 0 1"/>
    <dynamics damping="0.1" friction="0.01"/>
  </joint>
  <link name="rear_left_roller12">
    <inertial>
      <origin rpy="0 0 0" xyz="5.759281940243E-16 -3.44169137633799E-15 -0.0215899999999933"/>
      <mass value="0.025"/>
    </inertial>
    <visual>
      <origin rpy="0 0 0" xyz="0 0 0"/>
      <geometry>
        <mesh filename="package://linorobot2_description/mecanum_wheel_right/meshes/roller12.STL"/>
      </geometry>
      <material name="">
        <color rgba="0.752941176470588 0.752941176470588 0.752941176470588 1"/>
      </material>
    </visual>
    <collision>
      <origin rpy="0 0 0" xyz="0 0 0"/>
      <geometry>
        <mesh filename="package://linorobot2_description/mecanum_wheel_right/meshes/roller12.STL"/>
      </geometry>
    </collision>
  </link>
  <joint name="rear_left_wheel_to_rear_left_roller12" type="continuous">
    <origin rpy="2.12643201705665 -0.025160050703084 -0.60332516970669" xyz="0.0388684845445997 -0.0151129693199006 -0.0556783915705813"/>
    <parent link="rear_left_wheel"/>
    <child link="rear_left_roller12"/>
    <axis xyz="0 0 1"/>
    <dynamics damping="0.1" friction="0.01"/>
  </joint>
  <link name="rear_left_roller13">
    <inertial>
      <origin rpy="0 0 0" xyz="5.89805981832114E-16 -3.36536354339501E-15 -0.0215899999999933"/>
      <mass value="0.025"/>
    </inertial>
    <visual>
      <origin rpy="0 0 0" xyz="0 0 0"/>
      <geometry>
        <mesh filename="package://linorobot2_description/mecanum_wheel_right/meshes/roller13.STL"/>
      </geometry>
      <material name="">
        <color rgba="0.752941176470588 0.752941176470588 0.752941176470588 1"/>
      </material>
    </visual>
    <collision>
      <origin rpy="0 0 0" xyz="0 0 0"/>
      <geometry>
        <mesh filename="package://linorobot2_description/mecanum_wheel_right/meshes/roller13.STL"/>
      </geometry>
    </collision>
  </link>
  <joint name="rear_left_wheel_to_rear_left_roller13" type="continuous">
    <origin rpy="2.37615666037905 -0.365916365141497 -0.652805521545524" xyz="0.0581545695804492 -0.0151129693198971 -0.0350555047830372"/>
    <parent link="rear_left_wheel"/>
    <child link="rear_left_roller13"/>
    <axis xyz="0 0 1"/>
    <dynamics damping="0.1" friction="0.01"/>
  </joint>
  <link name="rear_left_roller14">
    <inertial>
      <origin rpy="0 0 0" xyz="5.82867087928207E-16 -2.38697950294409E-15 -0.0215899999999933"/>
      <mass value="0.025"/>
    </inertial>
    <visual>
      <origin rpy="0 0 0" xyz="0 0 0"/>
      <geometry>
        <mesh filename="package://linorobot2_description/mecanum_wheel_right/meshes/roller14.STL"/>
      </geometry>
      <material name="">
        <color rgba="0.752941176470588 0.752941176470588 0.752941176470588 1"/>
      </material>
    </visual>
    <collision>
      <origin rpy="0 0 0" xyz="0 0 0"/>
      <geometry>
        <mesh filename="package://linorobot2_description/mecanum_wheel_right/meshes/roller14.STL"/>
      </geometry>
    </collision>
  </link>
  <joint name="rear_left_wheel_to_rear_left_roller14" type="continuous">
    <origin rpy="2.69941973817462 -0.67973266586857 -0.817294146739146" xyz="0.0673852012181607 -0.0151129693198943 -0.00837120274924246"/>
    <parent link="rear_left_wheel"/>
    <child link="rear_left_roller14"/>
    <axis xyz="0 0 1"/>
    <dynamics damping="0.1" friction="0.01"/>
  </joint>
  <link name="rear_left_roller15">
    <inertial>
      <origin rpy="0 0 0" xyz="5.759281940243E-16 -6.50868248186498E-15 -0.0215899999999933"/>
      <mass value="0.025"/>
    </inertial>
    <visual>
      <origin rpy="0 0 0" xyz="0 0 0"/>
      <geometry>
        <mesh filename="package://linorobot2_description/mecanum_wheel_right/meshes/roller15.STL"/>
      </geometry>
      <material name="">
        <color rgba="0.752941176470588 0.752941176470588 0.752941176470588 1"/>
      </material>
    </visual>
    <collision>
      <origin rpy="0 0 0" xyz="0 0 0"/>
      <geometry>
        <mesh filename="package://linorobot2_description/mecanum_wheel_right/meshes/roller15.STL"/>
      </geometry>
    </collision>
  </link>
  <joint name="rear_left_wheel_to_rear_left_roller15" type="continuous">
    <origin rpy="-3.077965161563 -0.911914057233449 -1.18487158274901" xyz="0.0649643193899178 -0.0151129693198934 0.0197605562898849"/>
    <parent link="rear_left_wheel"/>
    <child link="rear_left_roller15"/>
    <axis xyz="0 0 1"/>
    <dynamics damping="0.1" friction="0.01"/>
  </joint>
  <link name="rear_right_wheel">
    <inertial>
      <origin rpy="0 0 0" xyz="-3.9077136779291E-16 -0.0136205707454137 -1.44489682185117E-14"/>
      <mass value="0.25"/>
    </inertial>
    <visual>
      <origin rpy="0 0 0" xyz="0 0 0"/>
      <geometry>
        <mesh filename="package://linorobot2_description/mecanum_wheel_left/meshes/base_link.STL"/>
      </geometry>
      <material name="">
        <color rgba="0.898039215686275 0.917647058823529 0.929411764705882 1"/>
      </material>
    </visual>
    <collision>
      <origin rpy="0 0 0" xyz="0 0 0"/>
      <geometry>
        <mesh filename="package://linorobot2_description/mecanum_wheel_left/meshes/base_link.STL"/>
      </geometry>
    </collision>
  </link>
  <joint name="base_link_to_rear_right_wheel" type="continuous">
    <origin rpy="0 0 0" xyz="-0.25857 -0.19355 0"/>
    <parent link="base_link"/>
    <child link="rear_right_wheel"/>
    <axis xyz="0 1 0"/>
    <dynamics damping="0.1" friction="0.01"/>
  </joint>
  <link name="rear_right_plate1">
    <inertial>
      <mass value="0.5"/>
    </inertial>
    <visual>
      <origin rpy="0 0 0" xyz="0 0 0"/>
      <geometry>
        <mesh filename="package://linorobot2_description/mecanum_wheel_left/meshes/plate1.STL"/>
      </geometry>
      <material name="">
        <color rgba="0.650980392156863 0.619607843137255 0.588235294117647 1"/>
      </material>
    </visual>
    <collision>
      <origin rpy="0 0 0" xyz="0 0 0"/>
      <geometry>
        <mesh filename="package://linorobot2_description/mecanum_wheel_left/meshes/plate1.STL"/>
      </geometry>
    </collision>
  </link>
  <joint name="rear_right_wheel_to_rear_right_plate1" type="fixed">
    <origin rpy="-1.5708 0.03287 0" xyz="0 0.023114 0"/>
    <parent link="rear_right_wheel"/>
    <child link="rear_right_plate1"/>
    <axis xyz="0 0 0"/>
  </joint>
  <link name="rear_right_plate2">
    <inertial>
      <mass value="0.5"/>
    </inertial>
    <visual>
      <origin rpy="0 0 0" xyz="0 0 0"/>
      <geometry>
        <mesh filename="package://linorobot2_description/mecanum_wheel_left/meshes/plate2.STL"/>
      </geometry>
      <material name="">
        <color rgba="0.650980392156863 0.619607843137255 0.588235294117647 1"/>
      </material>
    </visual>
    <collision>
      <origin rpy="0 0 0" xyz="0 0 0"/>
      <geometry>
        <mesh filename="package://linorobot2_description/mecanum_wheel_left/meshes/plate2.STL"/>
      </geometry>
    </collision>
  </link>
  <joint name="rear_right_wheel_to_rear_right_plate2" type="fixed">
    <origin rpy="-1.5707963267949 0.0335546833724646 -3.14159265358979" xyz="0 -0.023114 0"/>
    <parent link="rear_right_wheel"/>
    <child link="rear_right_plate2"/>
    <axis xyz="0 0 0"/>
  </joint>
  <link name="rear_right_roller1">
    <inertial>
      <origin rpy="0 0 0" xyz="5.96744875736022E-16 -1.24475083018716E-14 -0.0215899999999933"/>
      <mass value="0.025"/>
    </inertial>
    <visual>
      <origin rpy="0 0 0" xyz="0 0 0"/>
      <geometry>
        <mesh filename="package://linorobot2_description/mecanum_wheel_left/meshes/roller1.STL"/>
      </geometry>
      <material name="">
        <color rgba="0.752941176470588 0.752941176470588 0.752941176470588 1"/>
      </material>
    </visual>
    <collision>
      <origin rpy="0 0 0" xyz="0 0 0"/>
      <geometry>
        <mesh filename="package://linorobot2_description/mecanum_wheel_left/meshes/roller1.STL"/>
      </geometry>
    </collision>
  </link>
  <joint name="rear_right_wheel_to_rear_right_roller1" type="continuous">
    <origin rpy="2.3375 0.48899 -0.038445" xyz="-0.064997 -0.01515 0.019737"/>
    <parent link="rear_right_wheel"/>
    <child link="rear_right_roller1"/>
    <axis xyz="0 0 1"/>
    <dynamics damping="0.1" friction="0.01"/>
  </joint>
  <link name="rear_right_roller2">
    <inertial>
      <origin rpy="0 0 0" xyz="5.82867087928207E-16 -9.95687907123788E-15 -0.0215899999999933"/>
      <mass value="0.025"/>
    </inertial>
    <visual>
      <origin rpy="0 0 0" xyz="0 0 0"/>
      <geometry>
        <mesh filename="package://linorobot2_description/mecanum_wheel_left/meshes/roller2.STL"/>
      </geometry>
      <material name="">
        <color rgba="0.752941176470588 0.752941176470588 0.752941176470588 1"/>
      </material>
    </visual>
    <collision>
      <origin rpy="0 0 0" xyz="0 0 0"/>
      <geometry>
        <mesh filename="package://linorobot2_description/mecanum_wheel_left/meshes/roller2.STL"/>
      </geometry>
    </collision>
  </link>
  <joint name="rear_right_wheel_to_rear_right_roller2" type="continuous">
    <origin rpy="2.3122 0.90744 -0.055132" xyz="-0.05135 -0.01515 0.044467"/>
    <parent link="rear_right_wheel"/>
    <child link="rear_right_roller2"/>
    <axis xyz="0 0 1"/>
    <dynamics damping="0.1" friction="0.01"/>
  </joint>
  <link name="rear_right_roller3">
    <inertial>
      <origin rpy="0 0 0" xyz="5.82867087928207E-16 -3.41003267290141E-15 -0.0215899999999933"/>
      <mass value="0.025"/>
    </inertial>
    <visual>
      <origin rpy="0 0 0" xyz="0 0 0"/>
      <geometry>
        <mesh filename="package://linorobot2_description/mecanum_wheel_left/meshes/roller3.STL"/>
      </geometry>
      <material name="">
        <color rgba="0.752941176470588 0.752941176470588 0.752941176470588 1"/>
      </material>
    </visual>
    <collision>
      <origin rpy="0 0 0" xyz="0 0 0"/>
      <geometry>
        <mesh filename="package://linorobot2_description/mecanum_wheel_left/meshes/roller3.STL"/>
      </geometry>
    </collision>
  </link>
  <joint name="rear_right_wheel_to_rear_right_roller3" type="continuous">
    <origin rpy="2.22 1.3248 -0.13976" xyz="-0.028824 -0.01515 0.061508"/>
    <parent link="rear_right_wheel"/>
    <child link="rear_right_roller3"/>
    <axis xyz="0 0 1"/>
    <dynamics damping="0.1" friction="0.01"/>
  </joint>
  <link name="rear_right_roller4">
    <inertial>
      <origin rpy="0 0 0" xyz="5.68989300120393E-16 -3.35365415993216E-15 -0.0215899999999933"/>
      <mass value="0.025"/>
    </inertial>
    <visual>
      <origin rpy="0 0 0" xyz="0 0 0"/>
      <geometry>
        <mesh filename="package://linorobot2_description/mecanum_wheel_left/meshes/roller4.STL"/>
      </geometry>
      <material name="">
        <color rgba="0.752941176470588 0.752941176470588 0.752941176470588 1"/>
      </material>
    </visual>
    <collision>
      <origin rpy="0 0 0" xyz="0 0 0"/>
      <geometry>
        <mesh filename="package://linorobot2_description/mecanum_wheel_left/meshes/roller4.STL"/>
      </geometry>
    </collision>
  </link>
  <joint name="rear_right_wheel_to_rear_right_roller4" type="continuous">
    <origin rpy="-0.59653 1.3924 -2.9492" xyz="-0.0013143 -0.01515 0.067914"/>
    <parent link="rear_right_wheel"/>
    <child link="rear_right_roller4"/>
    <axis xyz="0 0 1"/>
    <dynamics damping="0.1" friction="0.01"/>
  </joint>
  <link name="rear_right_roller5">
    <inertial>
      <origin rpy="0 0 0" xyz="5.96744875736022E-16 2.4459601011273E-15 -0.0215899999999933"/>
      <mass value="0.025"/>
    </inertial>
    <visual>
      <origin rpy="0 0 0" xyz="0 0 0"/>
      <geometry>
        <mesh filename="package://linorobot2_description/mecanum_wheel_left/meshes/roller5.STL"/>
      </geometry>
      <material name="">
        <color rgba="0.752941176470588 0.752941176470588 0.752941176470588 1"/>
      </material>
    </visual>
    <collision>
      <origin rpy="0 0 0" xyz="0 0 0"/>
      <geometry>
        <mesh filename="package://linorobot2_description/mecanum_wheel_left/meshes/roller5.STL"/>
      </geometry>
    </collision>
  </link>
  <joint name="rear_right_wheel_to_rear_right_roller5" type="continuous">
    <origin rpy="-0.73578 0.97593 -3.081" xyz="0.026423 -0.01515 0.062578"/>
    <parent link="rear_right_wheel"/>
    <child link="rear_right_roller5"/>
    <axis xyz="0 0 1"/>
    <dynamics damping="0.1" friction="0.01"/>
  </joint>
  <link name="rear_right_roller6">
    <inertial>
      <origin rpy="0 0 0" xyz="5.82867087928207E-16 -7.52392939618041E-15 -0.0215899999999933"/>
      <mass value="0.025"/>
    </inertial>
    <visual>
      <origin rpy="0 0 0" xyz="0 0 0"/>
      <geometry>
        <mesh filename="package://linorobot2_description/mecanum_wheel_left/meshes/roller6.STL"/>
      </geometry>
      <material name="">
        <color rgba="0.752941176470588 0.752941176470588 0.752941176470588 1"/>
      </material>
    </visual>
    <collision>
      <origin rpy="0 0 0" xyz="0 0 0"/>
      <geometry>
        <mesh filename="package://linorobot2_description/mecanum_wheel_left/meshes/roller6.STL"/>
      </geometry>
    </collision>
  </link>
  <joint name="rear_right_wheel_to_rear_right_roller6" type="continuous">
    <origin rpy="-0.76481 0.55754 -3.1016" xyz="0.049591 -0.01515 0.04642"/>
    <parent link="rear_right_wheel"/>
    <child link="rear_right_roller6"/>
    <axis xyz="0 0 1"/>
    <dynamics damping="0.1" friction="0.01"/>
  </joint>
  <link name="rear_right_roller7">
    <inertial>
      <origin rpy="0 0 0" xyz="5.82867087928207E-16 -3.4109000346394E-15 -0.0215899999999933"/>
      <mass value="0.025"/>
    </inertial>
    <visual>
      <origin rpy="0 0 0" xyz="0 0 0"/>
      <geometry>
        <mesh filename="package://linorobot2_description/mecanum_wheel_left/meshes/roller7.STL"/>
      </geometry>
      <material name="">
        <color rgba="0.752941176470588 0.752941176470588 0.752941176470588 1"/>
      </material>
    </visual>
    <collision>
      <origin rpy="0 0 0" xyz="0 0 0"/>
      <geometry>
        <mesh filename="package://linorobot2_description/mecanum_wheel_left/meshes/roller7.STL"/>
      </geometry>
    </collision>
  </link>
  <joint name="rear_right_wheel_to_rear_right_roller7" type="continuous">
    <origin rpy="-0.78123 0.13894 -3.1073" xyz="0.064184 -0.01515 0.022237"/>
    <parent link="rear_right_wheel"/>
    <child link="rear_right_roller7"/>
    <axis xyz="0 0 1"/>
    <dynamics damping="0.1" friction="0.01"/>
  </joint>
  <link name="rear_right_roller8">
    <inertial>
      <origin rpy="0 0 0" xyz="5.82867087928207E-16 -1.76421377506841E-15 -0.0215899999999933"/>
      <mass value="0.025"/>
    </inertial>
    <visual>
      <origin rpy="0 0 0" xyz="0 0 0"/>
      <geometry>
        <mesh filename="package://linorobot2_description/mecanum_wheel_left/meshes/roller8.STL"/>
      </geometry>
      <material name="">
        <color rgba="0.752941176470588 0.752941176470588 0.752941176470588 1"/>
      </material>
    </visual>
    <collision>
      <origin rpy="0 0 0" xyz="0 0 0"/>
      <geometry>
        <mesh filename="package://linorobot2_description/mecanum_wheel_left/meshes/roller8.STL"/>
      </geometry>
    </collision>
  </link>
  <joint name="rear_right_wheel_to_rear_right_roller8" type="continuous">
    <origin rpy="-0.79573 -0.27969 -3.1063" xyz="0.06768 -0.01515 -0.0057919"/>
    <parent link="rear_right_wheel"/>
    <child link="rear_right_roller8"/>
    <axis xyz="0 0 1"/>
    <dynamics damping="0.1" friction="0.01"/>
  </joint>
  <link name="rear_right_roller9">
    <inertial>
      <origin rpy="0 0 0" xyz="5.82867087928207E-16 -5.1013880619788E-15 -0.0215899999999933"/>
      <mass value="0.025"/>
    </inertial>
    <visual>
      <origin rpy="0 0 0" xyz="0 0 0"/>
      <geometry>
        <mesh filename="package://linorobot2_description/mecanum_wheel_left/meshes/roller9.STL"/>
      </geometry>
      <material name="">
        <color rgba="0.752941176470588 0.752941176470588 0.752941176470588 1"/>
      </material>
    </visual>
    <collision>
      <origin rpy="0 0 0" xyz="0 0 0"/>
      <geometry>
        <mesh filename="package://linorobot2_description/mecanum_wheel_left/meshes/roller9.STL"/>
      </geometry>
    </collision>
  </link>
  <joint name="rear_right_wheel_to_rear_right_roller9" type="continuous">
    <origin rpy="-0.81448 -0.69826 -3.0973" xyz="0.059473 -0.01515 -0.032819"/>
    <parent link="rear_right_wheel"/>
    <child link="rear_right_roller9"/>
    <axis xyz="0 0 1"/>
    <dynamics damping="0.1" friction="0.01"/>
  </joint>
  <link name="rear_right_roller10">
    <inertial>
      <origin rpy="0 0 0" xyz="5.96744875736022E-16 -6.51952450358984E-15 -0.0215899999999933"/>
      <mass value="0.025"/>
    </inertial>
    <visual>
      <origin rpy="0 0 0" xyz="0 0 0"/>
      <geometry>
        <mesh filename="package://linorobot2_description/mecanum_wheel_left/meshes/roller10.STL"/>
      </geometry>
      <material name="">
        <color rgba="0.752941176470588 0.752941176470588 0.752941176470588 1"/>
      </material>
    </visual>
    <collision>
      <origin rpy="0 0 0" xyz="0 0 0"/>
      <geometry>
        <mesh filename="package://linorobot2_description/mecanum_wheel_left/meshes/roller10.STL"/>
      </geometry>
    </collision>
  </link>
  <joint name="rear_right_wheel_to_rear_right_roller10" type="continuous">
    <origin rpy="-0.85554 -1.1164 -3.0642" xyz="0.040982 -0.01515 -0.054171"/>
    <parent link="rear_right_wheel"/>
    <child link="rear_right_roller10"/>
    <axis xyz="0 0 1"/>
    <dynamics damping="0.1" friction="0.01"/>
  </joint>
  <link name="rear_right_roller11">
    <inertial>
      <origin rpy="0 0 0" xyz="5.68989300120393E-16 -3.40699690681845E-15 -0.0215899999999933"/>
      <mass value="0.025"/>
    </inertial>
    <visual>
      <origin rpy="0 0 0" xyz="0 0 0"/>
      <geometry>
        <mesh filename="package://linorobot2_description/mecanum_wheel_left/meshes/roller11.STL"/>
      </geometry>
      <material name="">
        <color rgba="0.752941176470588 0.752941176470588 0.752941176470588 1"/>
      </material>
    </visual>
    <collision>
      <origin rpy="0 0 0" xyz="0 0 0"/>
      <geometry>
        <mesh filename="package://linorobot2_description/mecanum_wheel_left/meshes/roller11.STL"/>
      </geometry>
    </collision>
  </link>
  <joint name="rear_right_wheel_to_rear_right_roller11" type="continuous">
    <origin rpy="-1.5658 -1.5225 -2.3612" xyz="0.015406 -0.01515 -0.066157"/>
    <parent link="rear_right_wheel"/>
    <child link="rear_right_roller11"/>
    <axis xyz="0 0 1"/>
    <dynamics damping="0.1" friction="0.01"/>
  </joint>
  <link name="rear_right_roller12">
    <inertial>
      <origin rpy="0 0 0" xyz="5.96744875736022E-16 -9.87751547221194E-15 -0.0215899999999933"/>
      <mass value="0.025"/>
    </inertial>
    <visual>
      <origin rpy="0 0 0" xyz="0 0 0"/>
      <geometry>
        <mesh filename="package://linorobot2_description/mecanum_wheel_left/meshes/roller12.STL"/>
      </geometry>
      <material name="">
        <color rgba="0.752941176470588 0.752941176470588 0.752941176470588 1"/>
      </material>
    </visual>
    <collision>
      <origin rpy="0 0 0" xyz="0 0 0"/>
      <geometry>
        <mesh filename="package://linorobot2_description/mecanum_wheel_left/meshes/roller12.STL"/>
      </geometry>
    </collision>
  </link>
  <joint name="rear_right_wheel_to_rear_right_roller12" type="continuous">
    <origin rpy="2.4393 -1.1848 -0.090248" xyz="-0.012835 -0.01515 -0.066704"/>
    <parent link="rear_right_wheel"/>
    <child link="rear_right_roller12"/>
    <axis xyz="0 0 1"/>
    <dynamics damping="0.1" friction="0.01"/>
  </joint>
  <link name="rear_right_roller13">
    <inertial>
      <origin rpy="0 0 0" xyz="6.10622663543836E-16 -6.50608039665102E-15 -0.0215899999999933"/>
      <mass value="0.025"/>
    </inertial>
    <visual>
      <origin rpy="0 0 0" xyz="0 0 0"/>
      <geometry>
        <mesh filename="package://linorobot2_description/mecanum_wheel_left/meshes/roller13.STL"/>
      </geometry>
      <material name="">
        <color rgba="0.752941176470588 0.752941176470588 0.752941176470588 1"/>
      </material>
    </visual>
    <collision>
      <origin rpy="0 0 0" xyz="0 0 0"/>
      <geometry>
        <mesh filename="package://linorobot2_description/mecanum_wheel_left/meshes/roller13.STL"/>
      </geometry>
    </collision>
  </link>
  <joint name="rear_right_wheel_to_rear_right_roller13" type="continuous">
    <origin rpy="2.3883 -0.76678 -0.047134" xyz="-0.038856 -0.01515 -0.055716"/>
    <parent link="rear_right_wheel"/>
    <child link="rear_right_roller13"/>
    <axis xyz="0 0 1"/>
    <dynamics damping="0.1" friction="0.01"/>
  </joint>
  <link name="rear_right_roller14">
    <inertial>
      <origin rpy="0 0 0" xyz="5.96744875736022E-16 -3.365797224264E-15 -0.0215899999999933"/>
      <mass value="0.025"/>
    </inertial>
    <visual>
      <origin rpy="0 0 0" xyz="0 0 0"/>
      <geometry>
        <mesh filename="package://linorobot2_description/mecanum_wheel_left/meshes/roller14.STL"/>
      </geometry>
      <material name="">
        <color rgba="0.752941176470588 0.752941176470588 0.752941176470588 1"/>
      </material>
    </visual>
    <collision>
      <origin rpy="0 0 0" xyz="0 0 0"/>
      <geometry>
        <mesh filename="package://linorobot2_description/mecanum_wheel_left/meshes/roller14.STL"/>
      </geometry>
    </collision>
  </link>
  <joint name="rear_right_wheel_to_rear_right_roller14" type="continuous">
    <origin rpy="2.3679 -0.34825 -0.036106" xyz="-0.058159 -0.01515 -0.035095"/>
    <parent link="rear_right_wheel"/>
    <child link="rear_right_roller14"/>
    <axis xyz="0 0 1"/>
    <dynamics damping="0.1" friction="0.01"/>
  </joint>
  <link name="rear_right_roller15">
    <inertial>
      <origin rpy="0 0 0" xyz="5.82867087928207E-16 -3.35452152167015E-15 -0.0215899999999933"/>
      <mass value="0.025"/>
    </inertial>
    <visual>
      <origin rpy="0 0 0" xyz="0 0 0"/>
      <geometry>
        <mesh filename="package://linorobot2_description/mecanum_wheel_left/meshes/roller15.STL"/>
      </geometry>
      <material name="">
        <color rgba="0.752941176470588 0.752941176470588 0.752941176470588 1"/>
      </material>
    </visual>
    <collision>
      <origin rpy="0 0 0" xyz="0 0 0"/>
      <geometry>
        <mesh filename="package://linorobot2_description/mecanum_wheel_left/meshes/roller15.STL"/>
      </geometry>
    </collision>
  </link>
  <joint name="rear_right_wheel_to_rear_right_roller15" type="continuous">
    <origin rpy="2.35322166168045 0.070379538766794 -0.0340216727613588" xyz="-0.0674050504299177 -0.0151497403158722 -0.00840608812639412"/>
    <parent link="rear_right_wheel"/>
    <child link="rear_right_roller15"/>
    <axis xyz="0 0 1"/>
    <dynamics damping="0.1" friction="0.01"/>
  </joint>
</robot>
